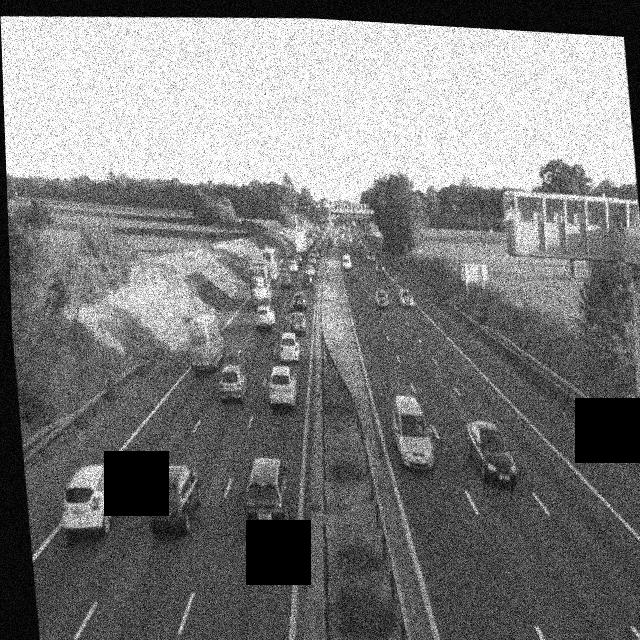car: (56, 461, 134, 538), (144, 462, 206, 537), (242, 456, 296, 533), (465, 419, 517, 488), (391, 393, 435, 472), (265, 364, 299, 410), (217, 364, 249, 402), (278, 331, 302, 364), (289, 313, 307, 336), (374, 288, 390, 310), (399, 287, 415, 309), (340, 254, 352, 272), (281, 273, 295, 288), (301, 270, 313, 286), (304, 261, 316, 277), (373, 261, 384, 274), (287, 257, 297, 271)
truck: (184, 311, 226, 373), (245, 261, 276, 326), (293, 224, 309, 259)
